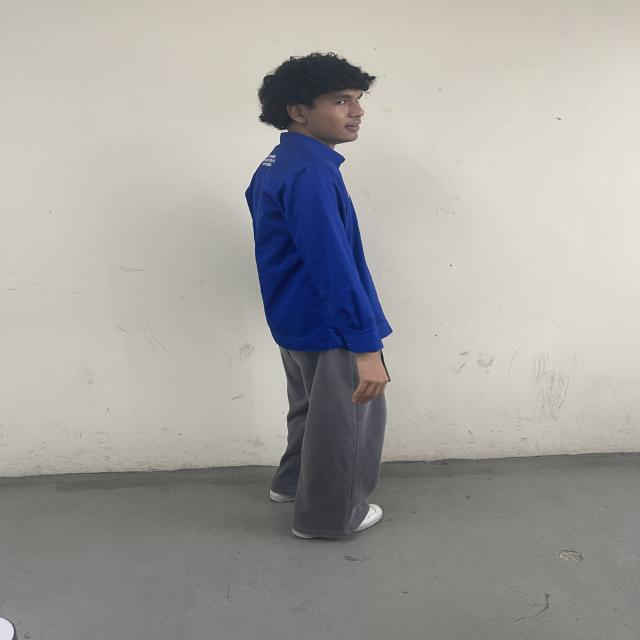person_with_labcoat: (246, 53, 392, 539)
